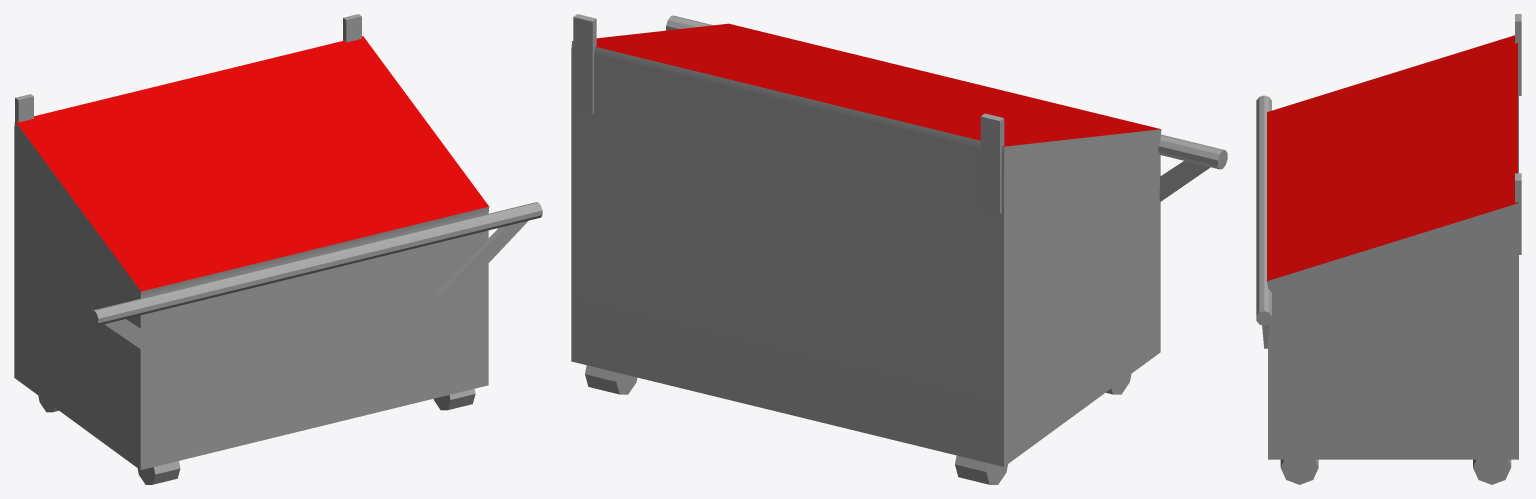
Rendered from poubel.fbx.
The picture shows the model from 3 angles, left to right: view 1: azimuth 30°, elevation 25°; view 2: azimuth 150°, elevation 25°; view 3: azimuth 270°, elevation 25°; orthographic projection. The views are drawn at different scales.
Parts seen in each view (by area): view 1: pCube1, pCylinder1, pCube5, pCube2, pCylinder2, pCylinder5; view 2: pCube1, pCube3, pCube4, pCylinder1, pCylinder3, pCylinder4, pCube2; view 3: pCube1, pCylinder1, pCylinder5, pCylinder4, pCube4, pCube3.
Boxes of the visible parts, bbox=[...] form: pCube1: bbox=[14, 36, 489, 470]; pCylinder1: bbox=[90, 202, 542, 325]; pCube5: bbox=[436, 220, 528, 306]; pCube2: bbox=[104, 319, 187, 374]; pCylinder2: bbox=[137, 461, 180, 484]; pCylinder5: bbox=[433, 389, 475, 410]; pCube1: bbox=[571, 23, 1161, 466]; pCube3: bbox=[980, 113, 1004, 213]; pCube4: bbox=[573, 14, 596, 114]; pCylinder1: bbox=[666, 15, 1227, 169]; pCylinder3: bbox=[955, 455, 1007, 484]; pCylinder4: bbox=[585, 365, 637, 394]; pCube2: bbox=[1159, 161, 1210, 201]; pCube1: bbox=[1267, 35, 1518, 459]; pCylinder1: bbox=[1256, 95, 1271, 325]; pCylinder5: bbox=[1280, 459, 1318, 484]; pCylinder4: bbox=[1473, 459, 1511, 484]; pCube4: bbox=[1515, 173, 1521, 254]; pCube3: bbox=[1515, 14, 1521, 95].
Bounding box in the file's own units: 125 × 82.52 × 64.76.
